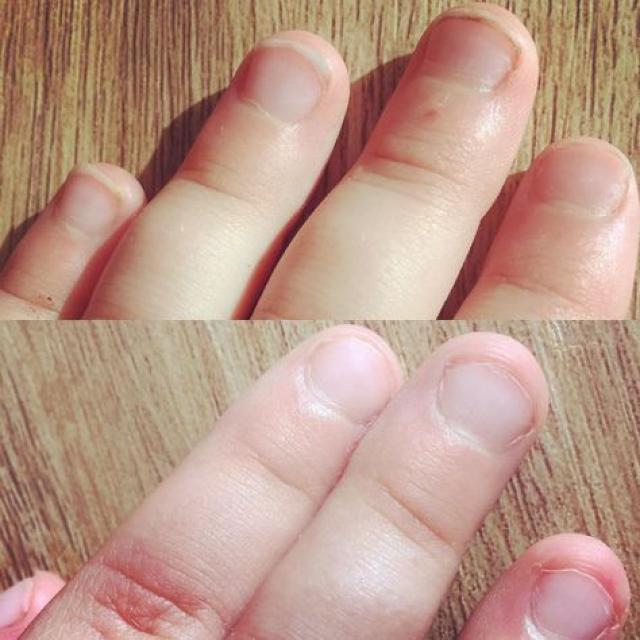Fingernail: (440, 363, 533, 451), (308, 338, 398, 423), (241, 43, 329, 123), (425, 14, 517, 89), (539, 143, 631, 215), (533, 570, 615, 639), (60, 170, 119, 237)
